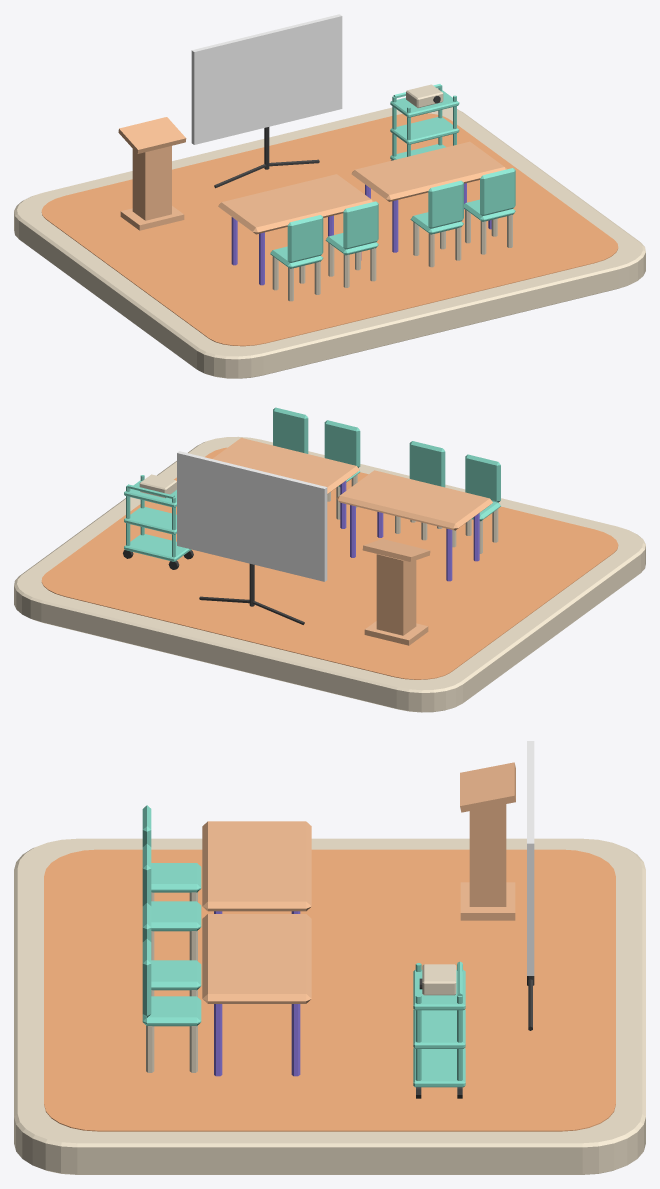
3 renders of one model, top to bottom at view 1: azimuth 30°, elevation 25°; view 2: azimuth 150°, elevation 25°; view 3: azimuth 270°, elevation 25°, orthographic. The views are drawn at different scales.
Visible parts, largest first — view 1: COM-02 Floor Surface, COM-01 Rounded Base Direct, Screen, Rounded table top.001, Rounded table top, Body, Reading top, Backrest, Backrest.002, Backrest.003, Backrest.001, Tray.001 (+3 smaller); view 2: COM-02 Floor Surface, COM-01 Rounded Base Direct, Screen, Rounded table top, Rounded table top.001, Body, Backrest.002, Backrest.001, Backrest, Backrest.003, Tray, Reading top (+4 smaller); view 3: COM-02 Floor Surface, COM-01 Rounded Base Direct, Rounded table top, Rounded table top.001, Body, Reading top, Screen, Tray, Tray.001, Seat.003, Seat.001, Seat.002 (+7 smaller).
Boxes of the visible parts, x1,y1,x2,y2 form: COM-02 Floor Surface: [41, 113, 618, 346]; COM-01 Rounded Base Direct: [14, 107, 645, 378]; Screen: [191, 14, 342, 144]; Rounded table top.001: [351, 141, 506, 201]; Rounded table top: [218, 174, 373, 234]; Body: [132, 146, 171, 220]; Reading top: [118, 117, 186, 153]; Backrest: [287, 215, 323, 262]; Backrest.002: [428, 180, 463, 228]; Backrest.003: [480, 168, 515, 216]; Backrest.001: [343, 201, 378, 249]; Tray.001: [390, 117, 459, 144]; COM-02 Floor Surface: [41, 447, 618, 679]; COM-01 Rounded Base Direct: [14, 436, 645, 712]; Screen: [177, 451, 327, 581]; Rounded table top: [336, 470, 492, 530]; Rounded table top.001: [212, 438, 359, 493]; Body: [376, 554, 416, 635]; Backrest.002: [324, 420, 360, 467]; Backrest.001: [409, 441, 445, 487]; Backrest: [465, 454, 500, 502]; Backrest.003: [273, 407, 308, 453]; Tray: [124, 534, 191, 561]; Reading top: [362, 539, 430, 561]; COM-02 Floor Surface: [44, 849, 615, 1131]; COM-01 Rounded Base Direct: [14, 838, 645, 1174]; Rounded table top: [202, 821, 311, 911]; Rounded table top.001: [202, 914, 311, 1003]; Body: [469, 804, 506, 906]; Reading top: [460, 762, 515, 812]; Screen: [527, 741, 534, 975]; Tray: [413, 1048, 465, 1087]; Tray.001: [413, 1009, 465, 1048]; Seat.003: [142, 996, 201, 1026]; Seat.001: [151, 901, 201, 931]; Seat.002: [151, 960, 201, 990].
Size of the model in its own units: 6 by 2.14 by 5.2.
1 material, 1 textured.
